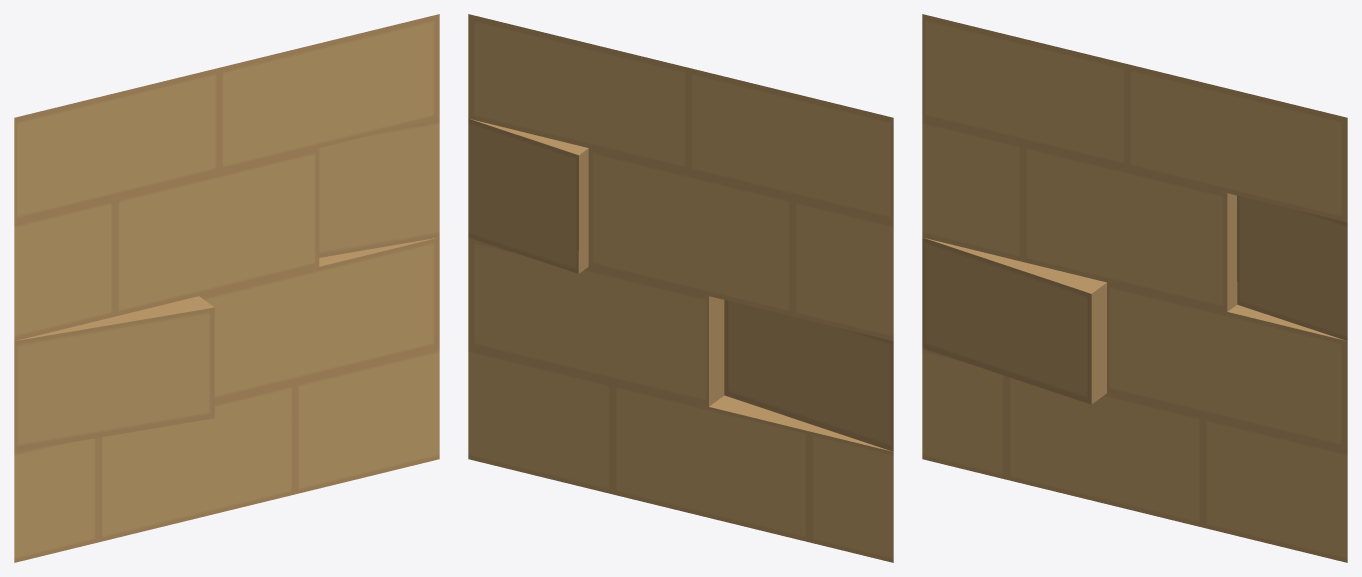
Rendered from ST_Env_Wall_Damaged_01.fbx.
3 renders of one model, left to right at view 1: azimuth 30°, elevation 25°; view 2: azimuth 150°, elevation 25°; view 3: azimuth 330°, elevation 25°, orthographic.
Parts seen in each view (by area): view 1: ST_Env_Wall_Damaged_01; view 2: ST_Env_Wall_Damaged_01; view 3: ST_Env_Wall_Damaged_01.
Part boxes in pixels (left/top/right/bottom): ST_Env_Wall_Damaged_01: left=14, top=14, right=439, bottom=562; ST_Env_Wall_Damaged_01: left=468, top=14, right=893, bottom=562; ST_Env_Wall_Damaged_01: left=922, top=14, right=1347, bottom=562.
Bounding box in the file's own units: 5 × 5 × 0.5172.
